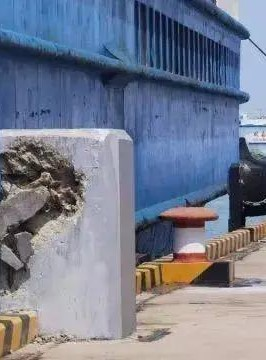Spalling: (1, 138, 87, 243)
